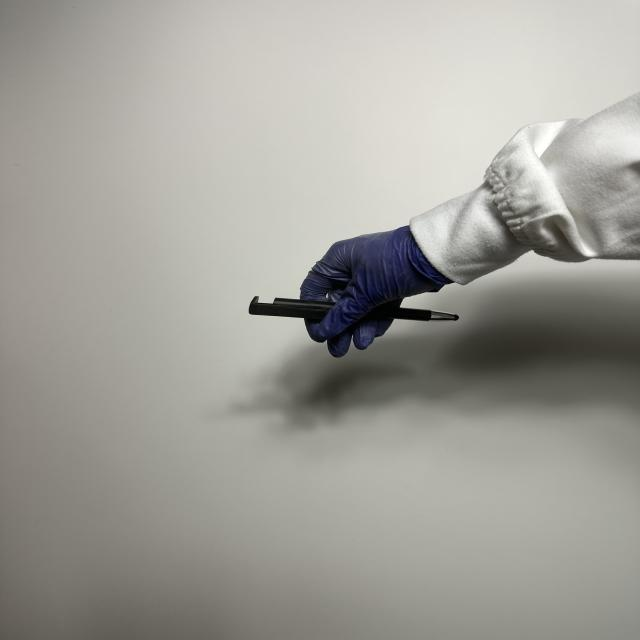gloves_contaminated: (300, 226, 452, 357)
